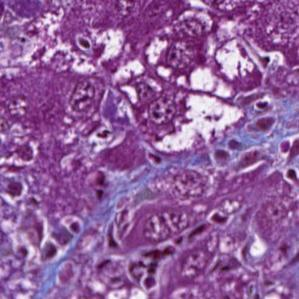inflammation: (126, 241, 178, 293), (69, 25, 120, 76)
